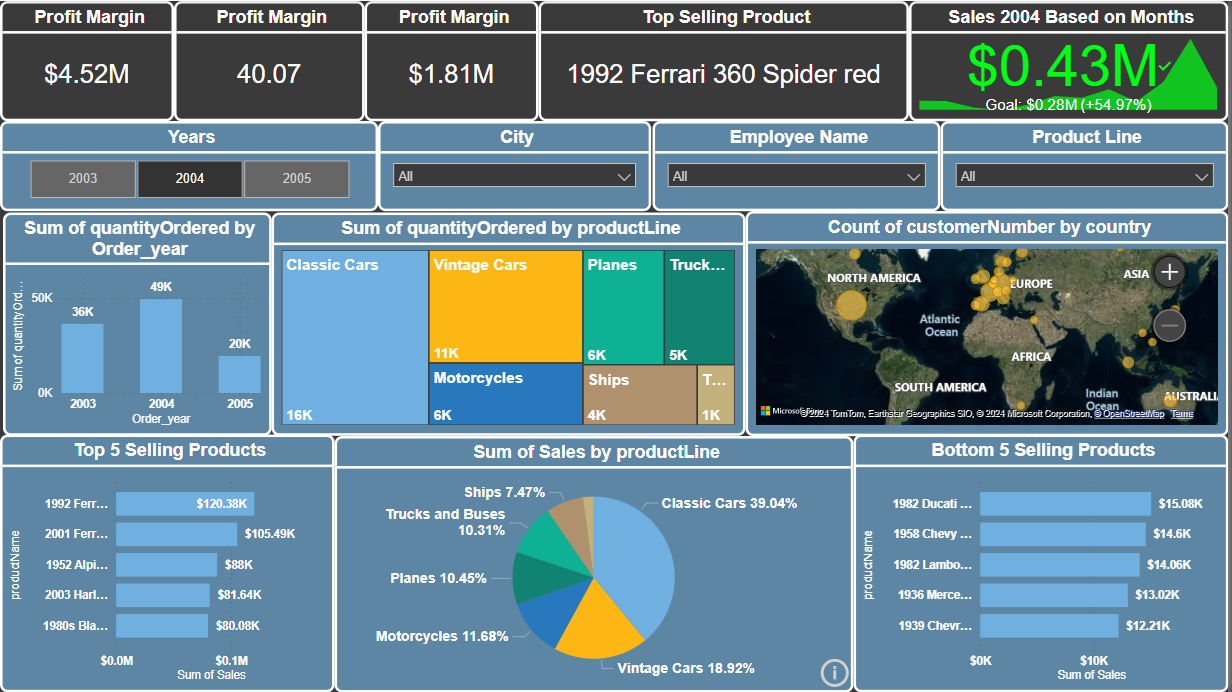

The dashboard page shown, as its layout file describes it:
{"tool":"powerbi","page":{"name":"Page 1","canvas":[1280,720],"ordinal":0},"visuals":[{"type":"card","title":"Profit Margin","fields":{"Values":["Order Details.Total_profit"]},"box":[379.8,0,181.3,125],"z":0},{"type":"card","title":"Top Selling Product","fields":{"Values":["Order Details.MostOrderedProduct"]},"box":[561.1,0,386.1,125],"z":1000},{"type":"barChart","title":"Top 5 Selling Products","fields":{"Category":["Products.productName"],"Y":["Sum(Order Details.Sales)"]},"box":[0,451.7,348.5,268.8],"z":2000},{"type":"pieChart","fields":{"Category":["Product Lines.productLine"],"Y":["Sum(Order Details.Sales)"]},"box":[348.5,453.3,540.8,267.3],"z":3000},{"type":"slicer","title":"Years","fields":{"Values":["Orders.Order_year"]},"box":[0,125,393.9,93.8],"z":4000},{"type":"kpi","title":"Sales 2004 Based on Months","fields":{"Indicator":["Orders.sales_2004"],"Goal":["Orders.sales_2003"],"TrendLine":["Orders.Month Name"]},"box":[947.2,0,332.9,125],"z":5000},{"type":"map","fields":{"Size":["CountNonNull(Customers.customerNumber)"],"Category":["Customers.country"]},"box":[776.8,218.8,503.3,234.4],"z":6000},{"type":"treemap","fields":{"Group":["Products.productLine"],"Values":["Sum(Order Details.quantityOrdered)"]},"box":[282.9,220.4,493.9,232.9],"z":7000},{"type":"columnChart","fields":{"Category":["Orders.Order_year"],"Y":["Sum(Order Details.quantityOrdered)"]},"box":[3.1,220.4,279.8,232.9],"z":8000},{"type":"card","title":"Profit Margin","fields":{"Values":["Order Details.Profit_Margin_%"]},"box":[181.3,0,198.5,125],"z":9000},{"type":"card","title":"Profit Margin","fields":{"Values":["Sum(Order Details.Sales)"]},"box":[0,0,181.3,125],"z":10000},{"type":"slicer","title":"City","fields":{"Values":["Employees.city"]},"box":[393.9,125,284.5,93.8],"z":11000},{"type":"slicer","title":"Employee Name","fields":{"Values":["Employees.EmployeeFullName"]},"box":[679.9,125,300.1,93.8],"z":12000},{"type":"slicer","title":"Product Line","fields":{"Values":["Products.productLine"]},"box":[980,125,300.1,93.8],"z":13000},{"type":"barChart","title":"Bottom 5 Selling Products","fields":{"Category":["Products.productName"],"Y":["Sum(Order Details.Sales)"]},"box":[889.3,451.7,390.7,268.8],"z":14000},{"type":"actionButton","box":[850.3,679.9,39.1,40.6],"z":15000}]}

Visuals, with their boxes in screenshot pixels (x1, y1, x2, y2), scaled from the page's 1280x720 canvas onto the 1232x692 screenshot:
"Profit Margin" card: 366:0:540:120
"Top Selling Product" card: 540:0:912:120
"Top 5 Selling Products" barChart: 0:434:335:691
pieChart - Product Lines.productLine x Sum(Order Details.Sales): 335:436:856:691
"Years" slicer: 0:120:379:210
"Sales 2004 Based on Months" kpi: 912:0:1231:120
map - CountNonNull(Customers.customerNumber) x Customers.country: 748:210:1231:436
treemap - Products.productLine x Sum(Order Details.quantityOrdered): 272:212:748:436
columnChart - Orders.Order_year x Sum(Order Details.quantityOrdered): 3:212:272:436
"Profit Margin" card: 175:0:366:120
"Profit Margin" card: 0:0:175:120
"City" slicer: 379:120:653:210
"Employee Name" slicer: 654:120:943:210
"Product Line" slicer: 943:120:1231:210
"Bottom 5 Selling Products" barChart: 856:434:1231:691
actionButton: 818:653:856:691
